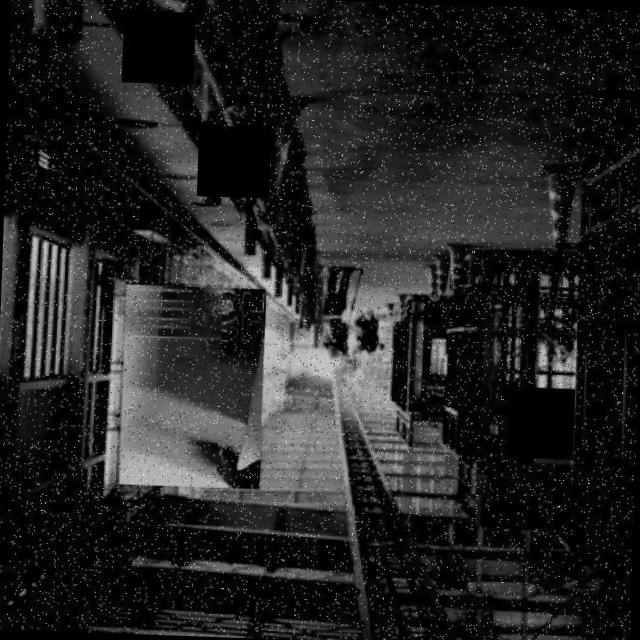box: (119, 280, 268, 490)
